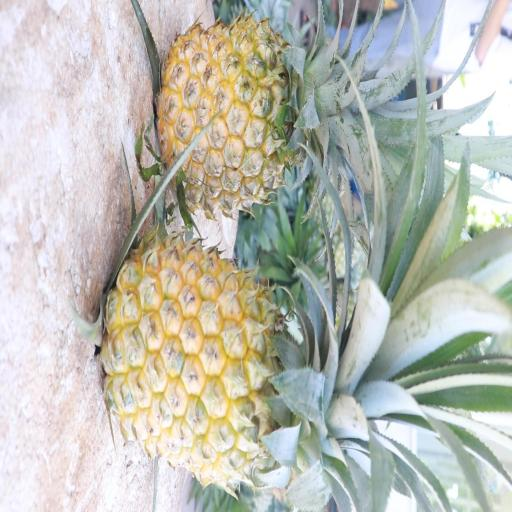Pineapple - v8 v1: (98, 227, 386, 491), (154, 12, 362, 226), (216, 154, 226, 158), (223, 112, 232, 112)
